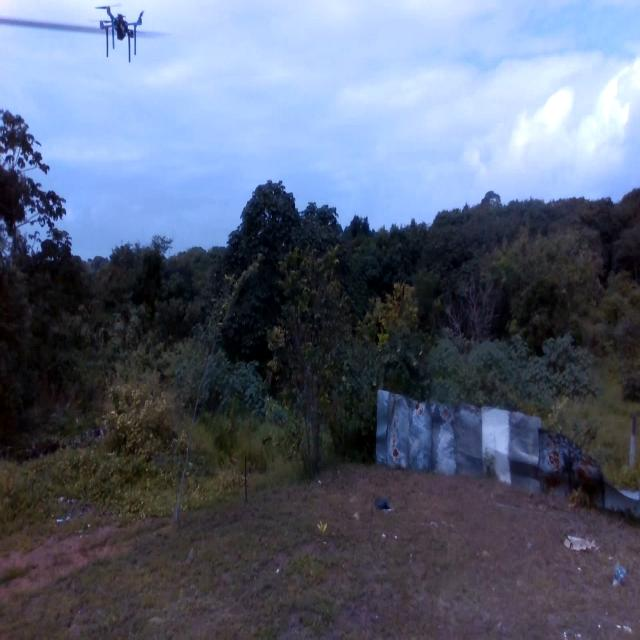-uav-: (87, 5, 165, 65)
